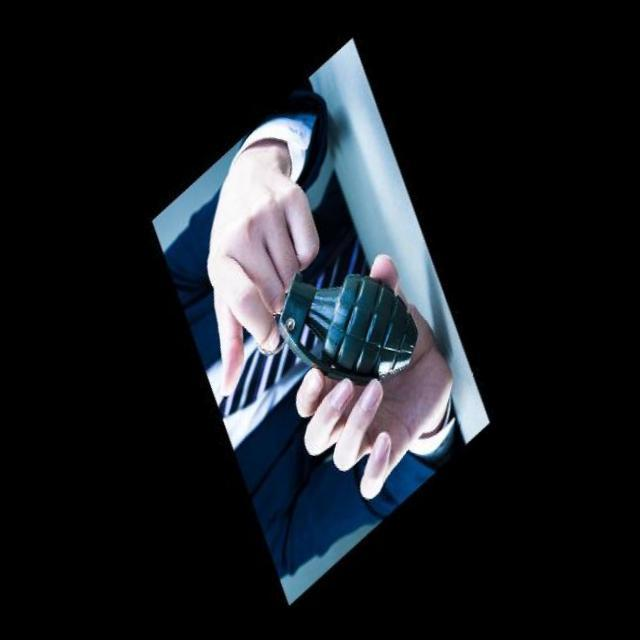grenade: (256, 247, 438, 392)
